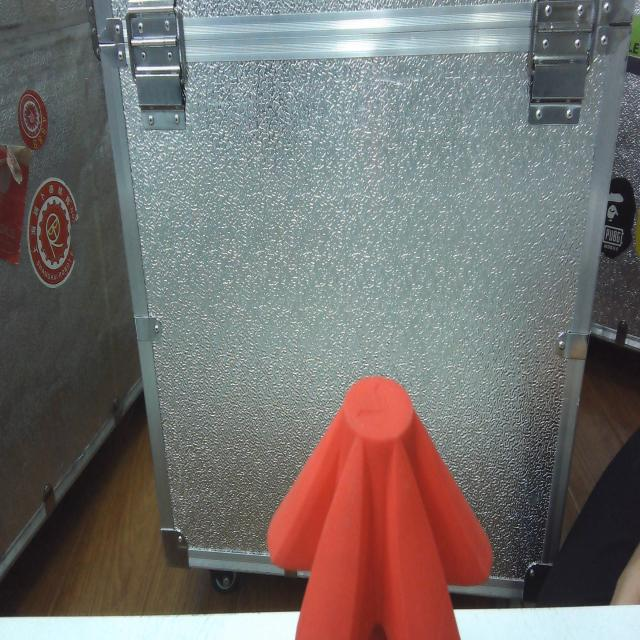zred-Stake-Head: (267, 374, 493, 640)
